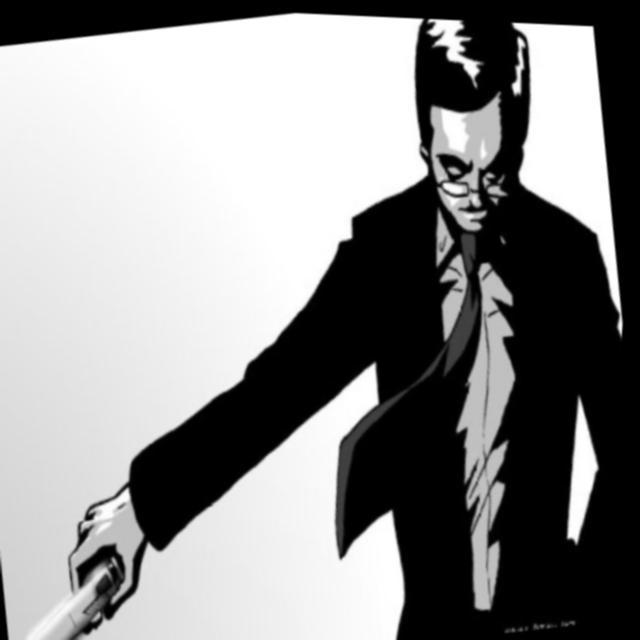weapon: (13, 555, 162, 640)
